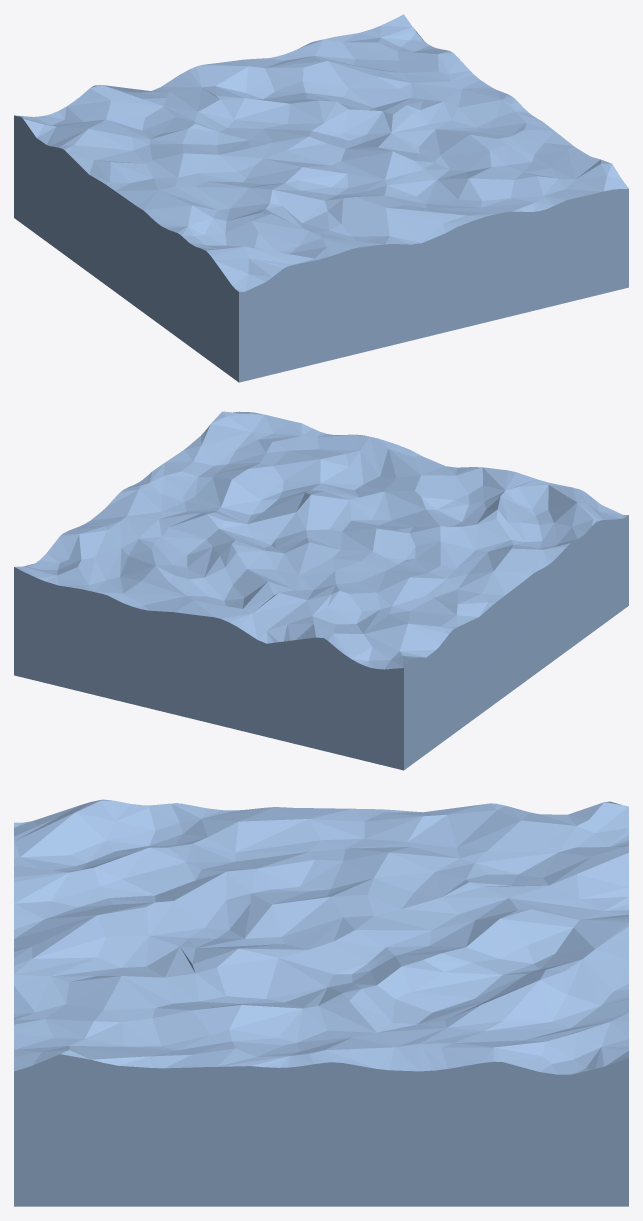
Rendered from Water_Night.fbx.
3 renders of one model, top to bottom at view 1: azimuth 30°, elevation 25°; view 2: azimuth 150°, elevation 25°; view 3: azimuth 270°, elevation 25°, orthographic. The views are drawn at different scales.
Visible parts, largest first — view 1: pPlane1; view 2: pPlane1; view 3: pPlane1.
Boxes of the visible parts, x1,y1,x2,y2 form: pPlane1: (14, 14, 628, 382); pPlane1: (14, 411, 628, 770); pPlane1: (14, 799, 628, 1206).
Size of the model in its own units: 12 by 3.34 by 12.
